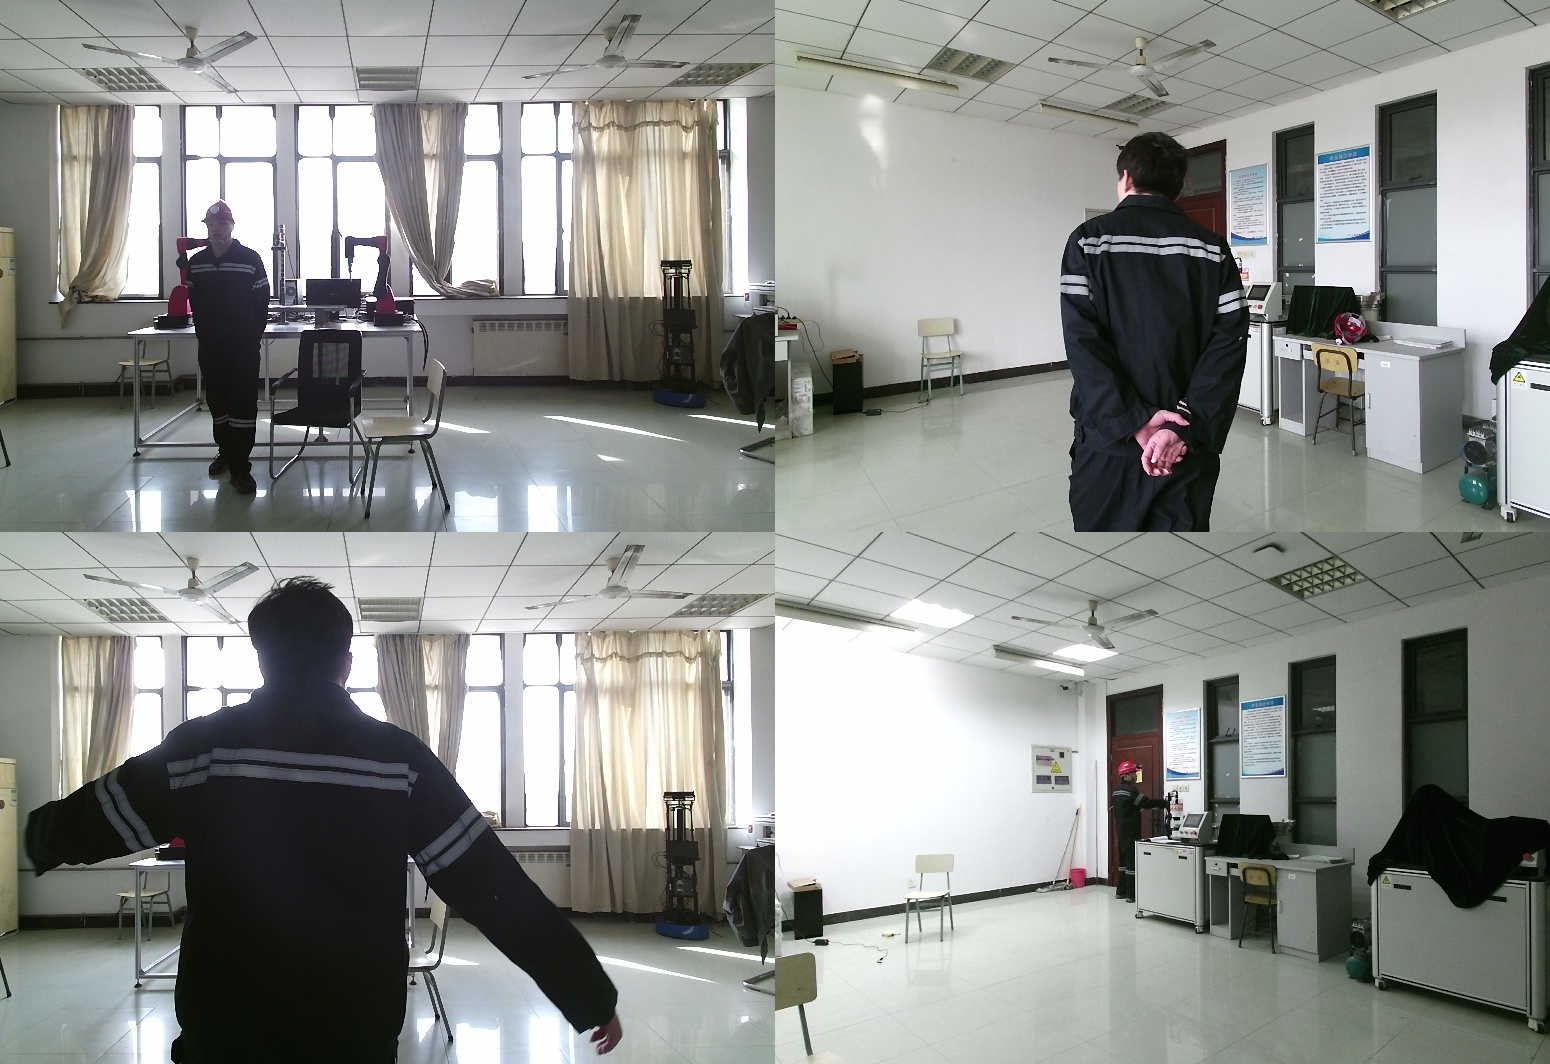person: (28, 583, 618, 1064), (1063, 132, 1269, 532), (181, 202, 270, 486), (1106, 765, 1171, 906)
